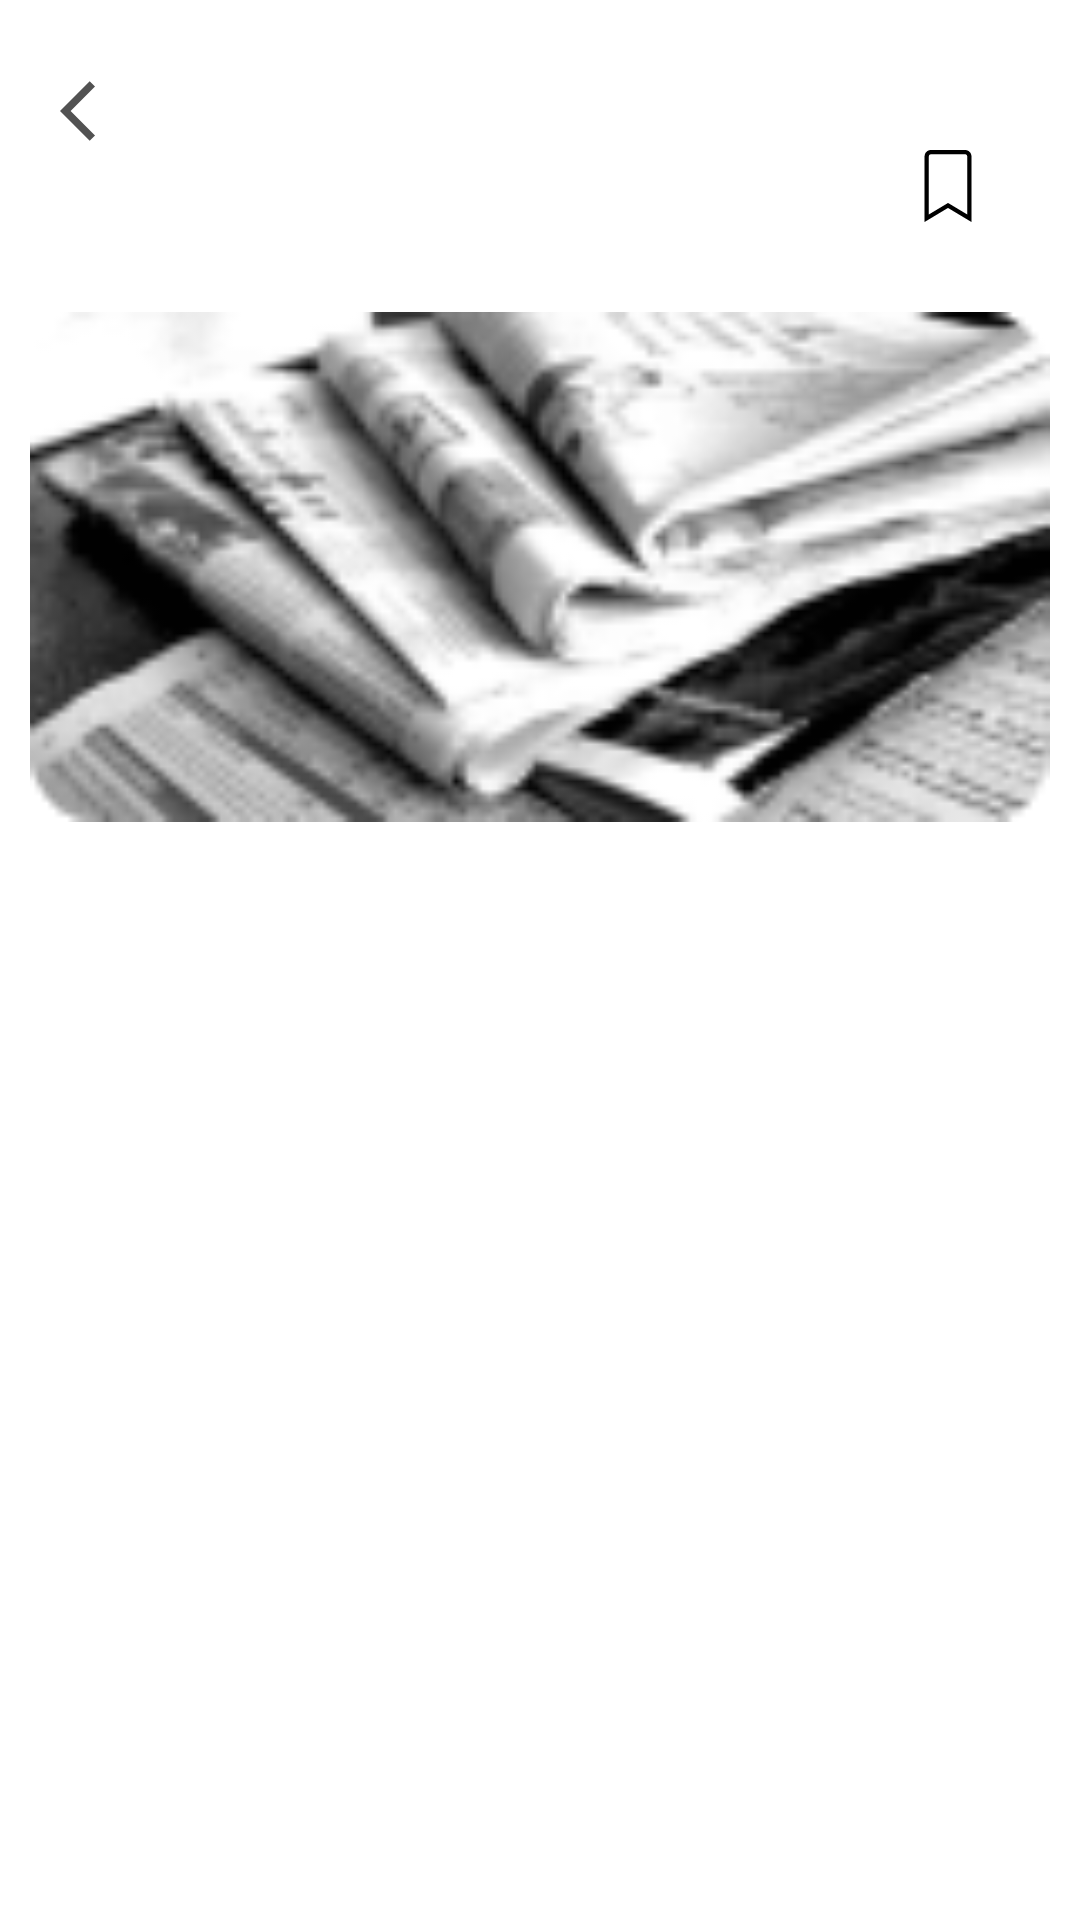

Icon bounding boxes for this 1080x1920 phone screenshot, format bbox(x1, y1, x2, y2):
arrow back: bbox(60, 81, 95, 141)
bookmark unchecked: bbox(924, 150, 972, 222)
